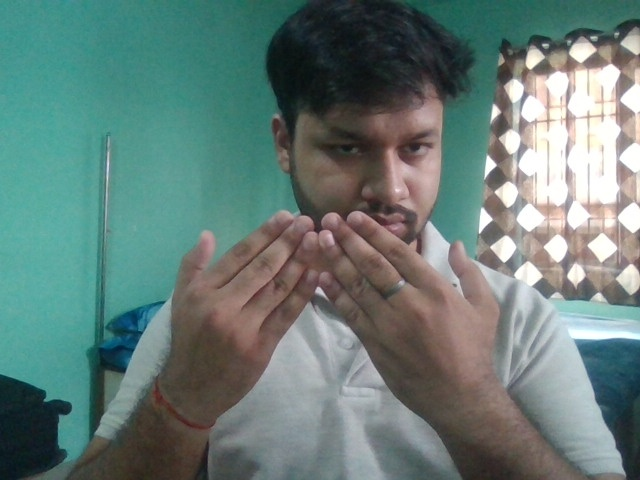Thank You: (152, 203, 513, 431)
